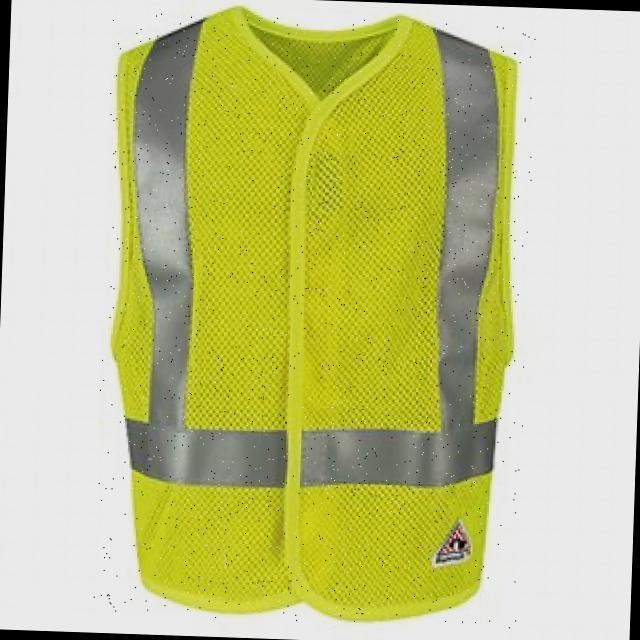vest: (92, 10, 538, 628)
